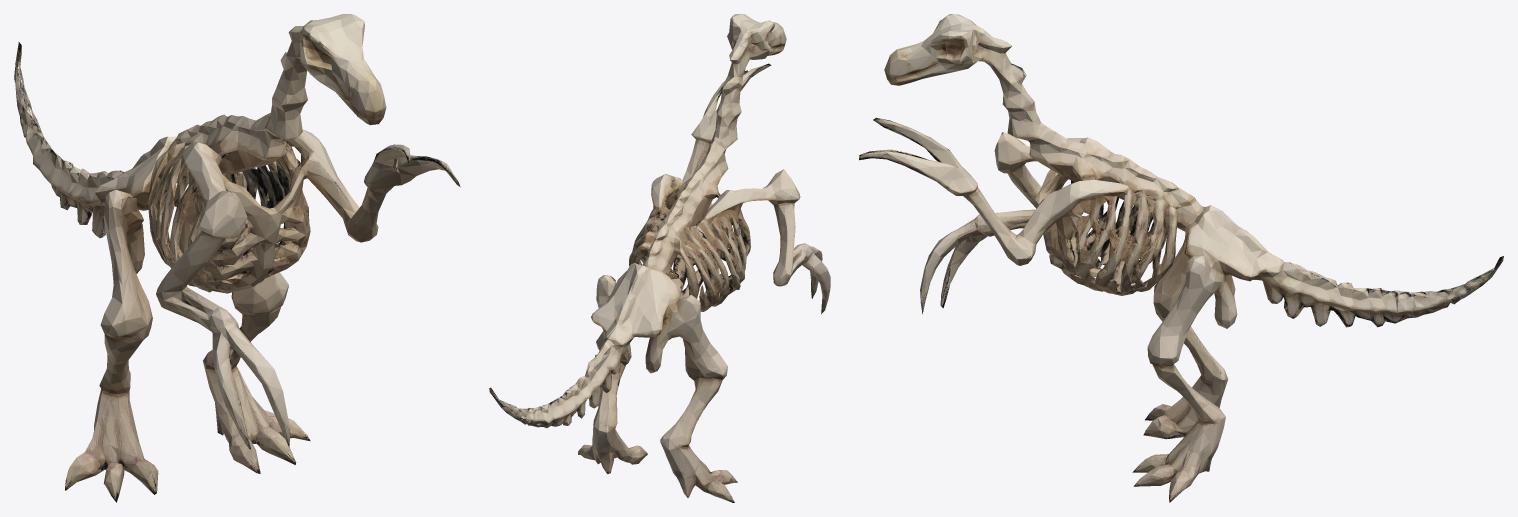
Rendered from therizinosaurus-skjelett.glb.
3 renders of one model, left to right at view 1: azimuth 30°, elevation 25°; view 2: azimuth 150°, elevation 25°; view 3: azimuth 270°, elevation 25°, orthographic. The views are drawn at different scales.
Parts seen in each view (by area): view 1: geometry_0; view 2: geometry_0; view 3: geometry_0.
Part boxes in pixels (bbox=[...]): geometry_0: bbox=[14, 14, 460, 502]; geometry_0: bbox=[489, 14, 830, 502]; geometry_0: bbox=[859, 14, 1503, 502].
Bounding box in the file's own units: 0.3346 × 0.7498 × 0.9991.
1 material, 1 textured.
